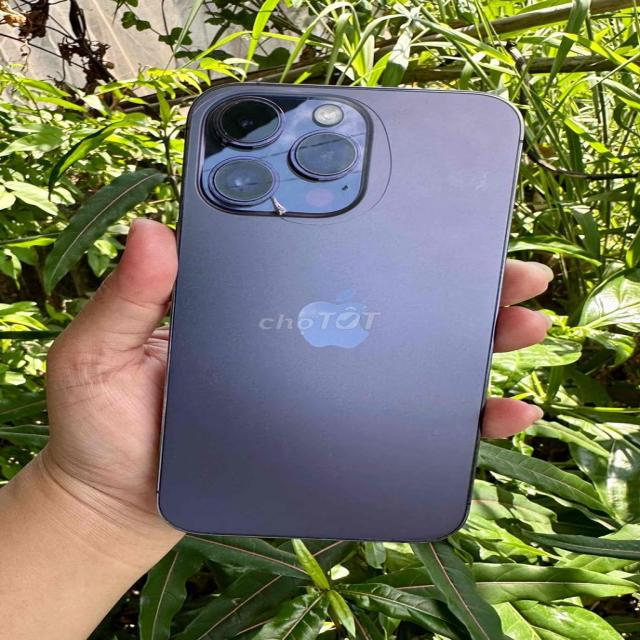scratch: (343, 94, 416, 164), (346, 162, 407, 226), (260, 206, 379, 234)
